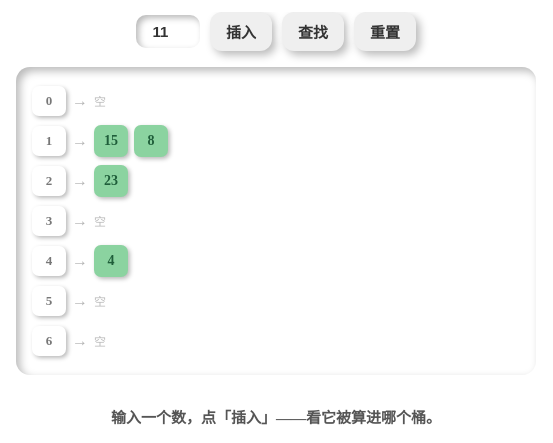
Scenario: HashViz › TC-VIZ-HASHVIZ-06 search 命中解说
Replace the text in the number field named "值" with "8" at (168, 32), box 136,15 -> 200,48
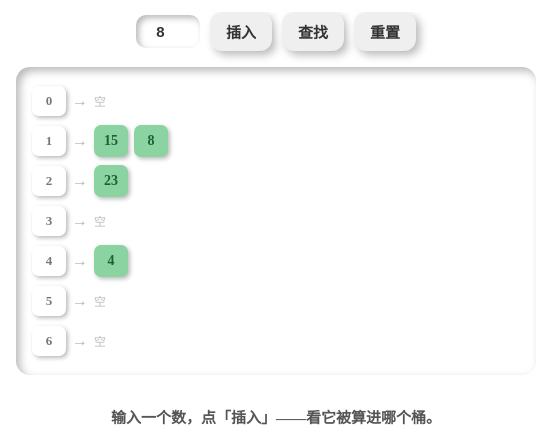
Click the button "查找" at (313, 32), box 282,12 -> 344,51
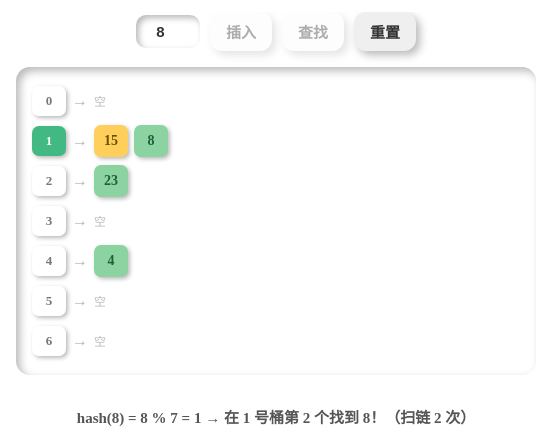
expect the message with class "status" shows "找到": met, box 77,410 -> 475,426
